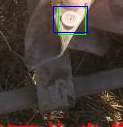text: (58, 6, 85, 34)
